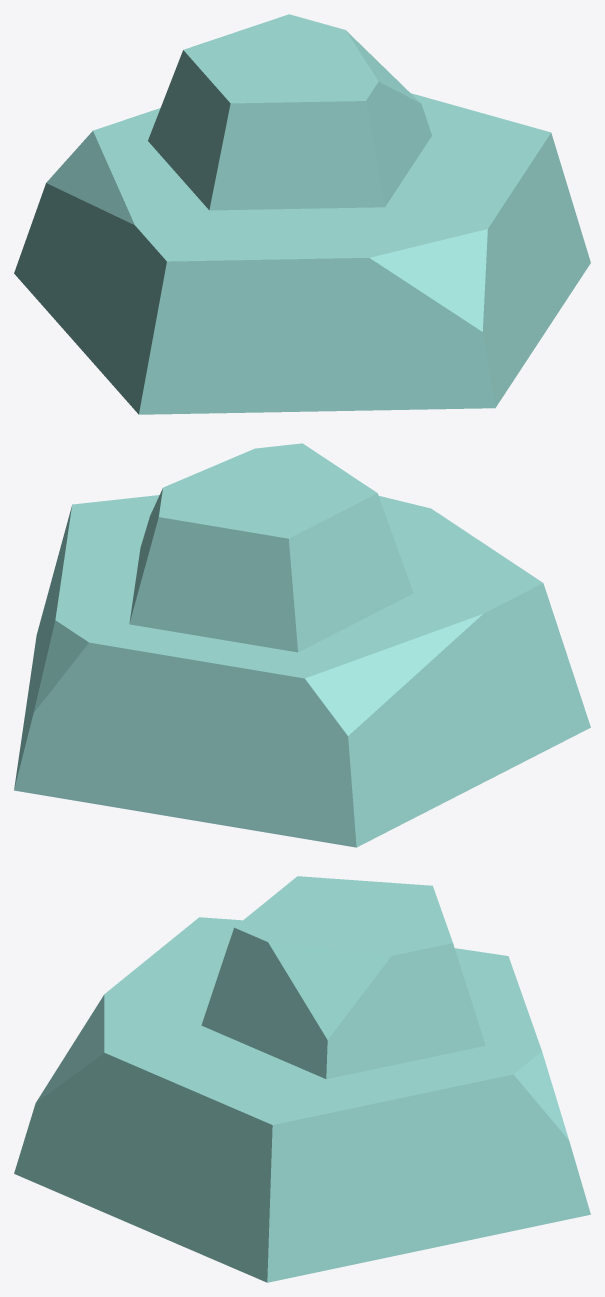
Rendered from rock_smallTop1.fbx.
3 renders of one model, top to bottom at view 1: azimuth 30°, elevation 25°; view 2: azimuth 150°, elevation 25°; view 3: azimuth 270°, elevation 25°, orthographic. The views are drawn at different scales.
Visible parts, largest first — view 1: rock_smallTop1; view 2: rock_smallTop1; view 3: rock_smallTop1.
Boxes of the visible parts, <box> form: rock_smallTop1: <box>14,14,590,414</box>; rock_smallTop1: <box>14,443,590,847</box>; rock_smallTop1: <box>14,876,590,1282</box>.
Bounding box in the file's own units: 147 × 66 × 146.
